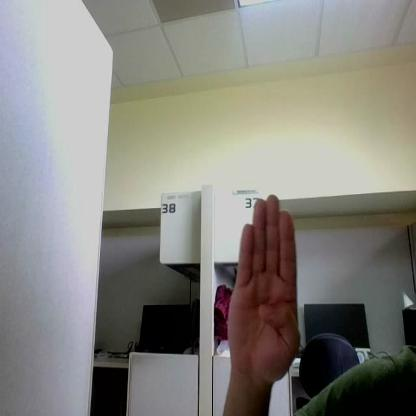B: (228, 195, 298, 380)
